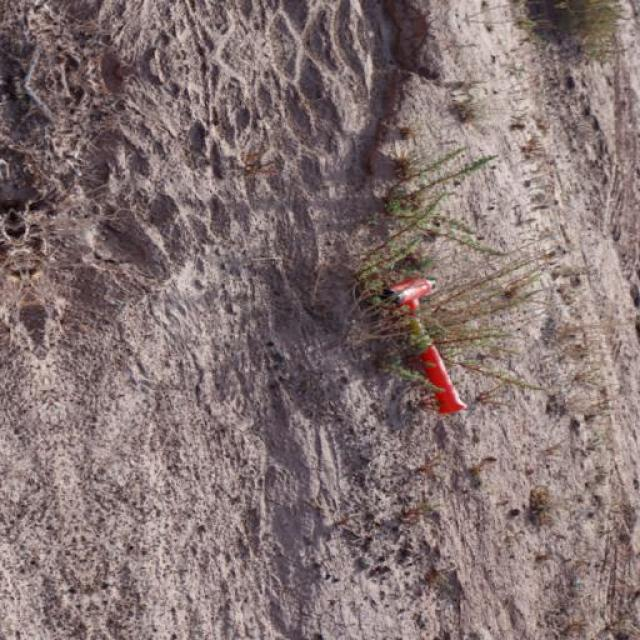mallet: (381, 275, 470, 415)
